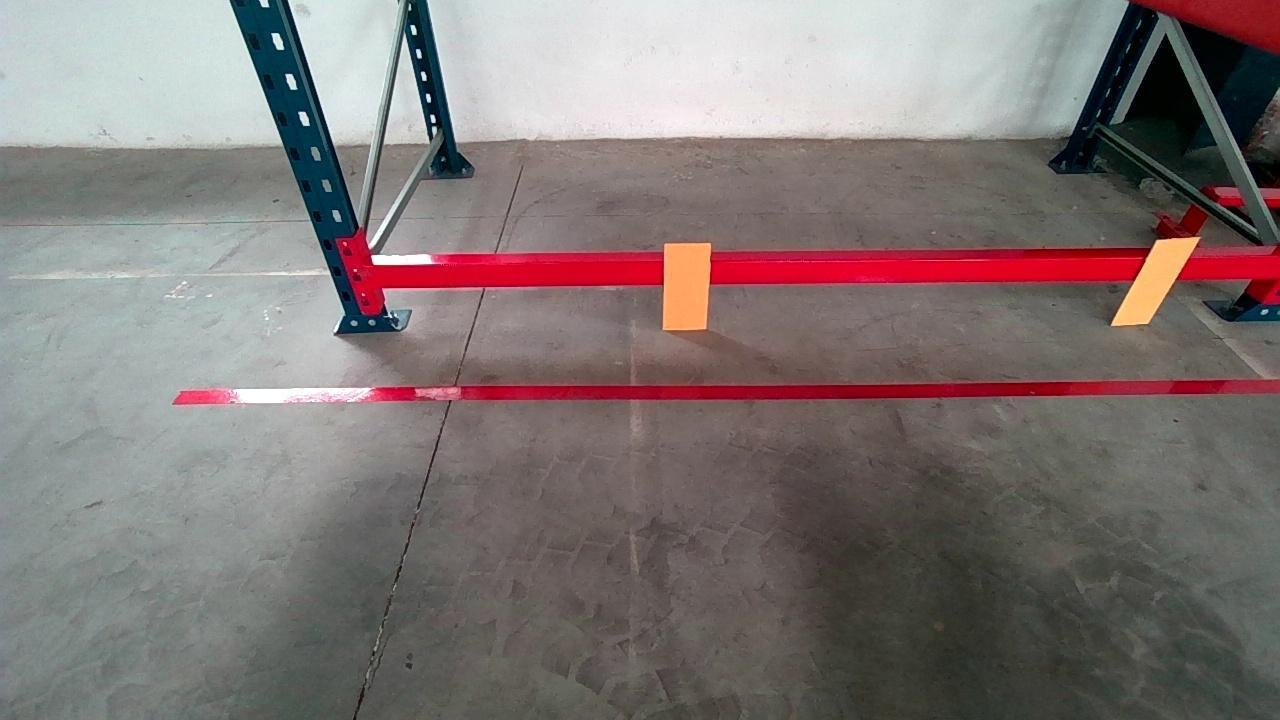h_rack: (371, 238, 1275, 285)
orange_strip: (1112, 239, 1199, 323), (663, 242, 711, 329)
red_line: (180, 371, 1275, 406)
